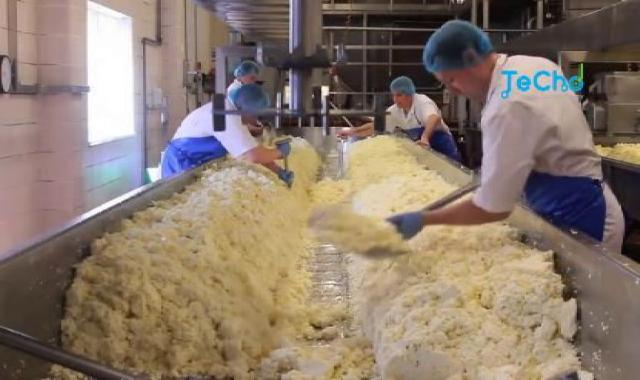hairnet: (423, 17, 507, 82), (386, 74, 430, 105), (231, 56, 272, 81), (237, 86, 267, 118)
